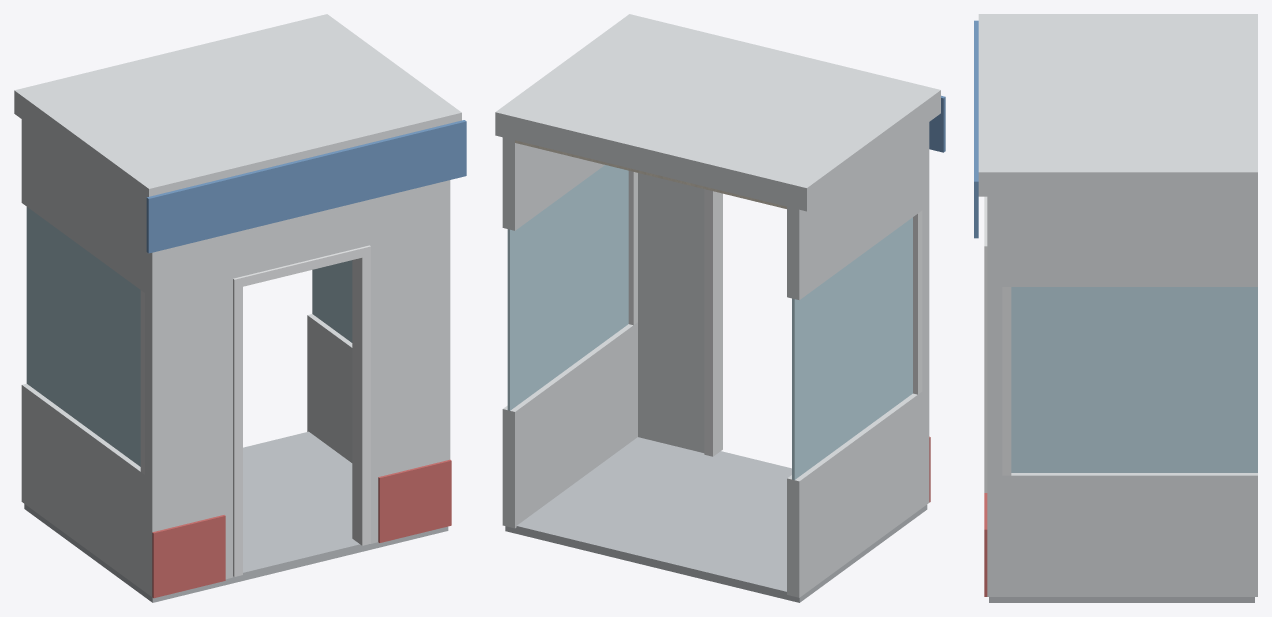
The model's file is vestibule.glb.
3 views of the same model, side by side, from view 1: azimuth 30°, elevation 25°; view 2: azimuth 150°, elevation 25°; view 3: azimuth 270°, elevation 25° (orthographic). The views are drawn at different scales.
Visible parts, largest first — view 1: vestibule_steel, vestibule_glass, vestibule_enamel, vestibule_steel_dark, vestibule_frame, vestibule_enamel_red; view 2: vestibule_steel, vestibule_glass, vestibule_steel_dark, vestibule_frame, vestibule_plaster, vestibule_enamel; view 3: vestibule_steel, vestibule_glass, vestibule_frame, vestibule_steel_dark, vestibule_enamel, vestibule_enamel_red.
Boxes of the visible parts, <box> form: vestibule_steel: <box>14,14,461,596</box>; vestibule_glass: <box>26,207,352,466</box>; vestibule_enamel: <box>146,120,466,253</box>; vestibule_steel_dark: <box>24,431,448,602</box>; vestibule_frame: <box>140,245,370,576</box>; vestibule_enamel_red: <box>152,459,451,598</box>; vestibule_steel: <box>495,14,940,597</box>; vestibule_glass: <box>507,165,912,479</box>; vestibule_steel_dark: <box>505,437,927,602</box>; vestibule_frame: <box>628,171,922,456</box>; vestibule_plaster: <box>515,140,786,208</box>; vestibule_enamel: <box>929,95,945,152</box>; vestibule_steel: <box>978,14,1257,596</box>; vestibule_glass: <box>1011,287,1257,472</box>; vestibule_frame: <box>984,196,1011,492</box>; vestibule_steel_dark: <box>989,597,1254,602</box>; vestibule_enamel: <box>974,20,978,238</box>; vestibule_enamel_red: <box>984,493,987,596</box>.
Size of the model in its own units: 2.56 by 3.23 by 1.91.
7 materials, 1 textured.
